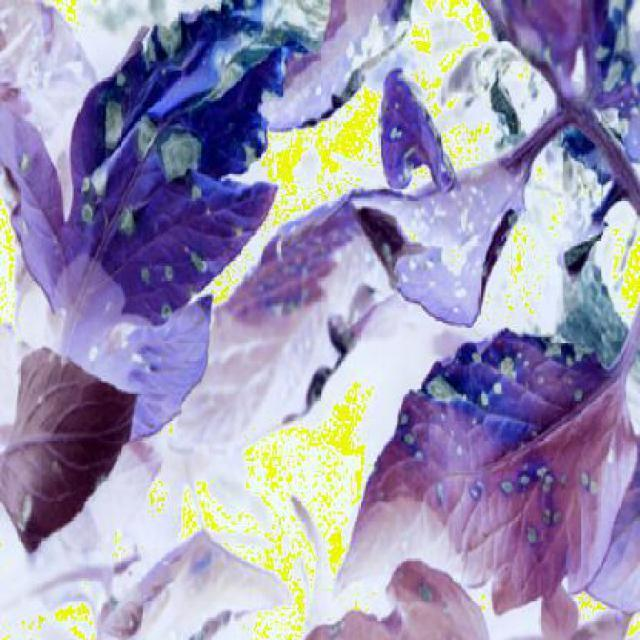Tomato Septoria spot leaf: (34, 6, 300, 380), (338, 314, 636, 610), (342, 98, 562, 337)
